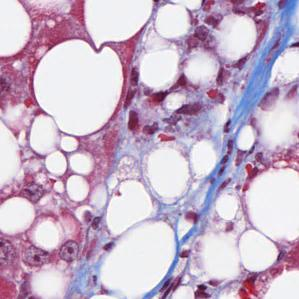inflammation: (118, 86, 183, 144)
